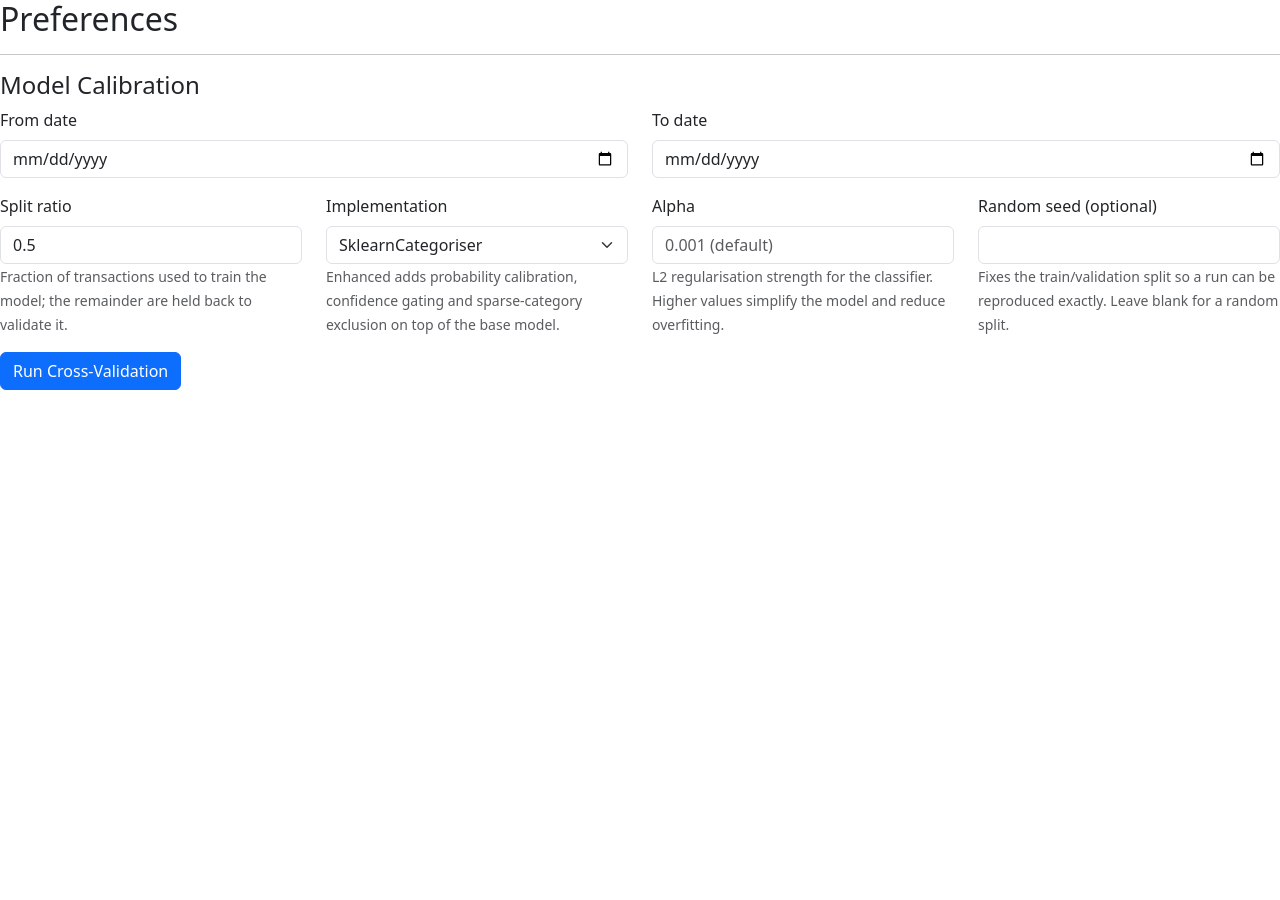
Test case: Preferences › should open save modal and save model with set-as-default option
This screenshot has width=1280, height=900.
In the date field labelled "From date": (314, 159) top-left (0, 140), bottom-right (628, 178), type "2025-01-01"
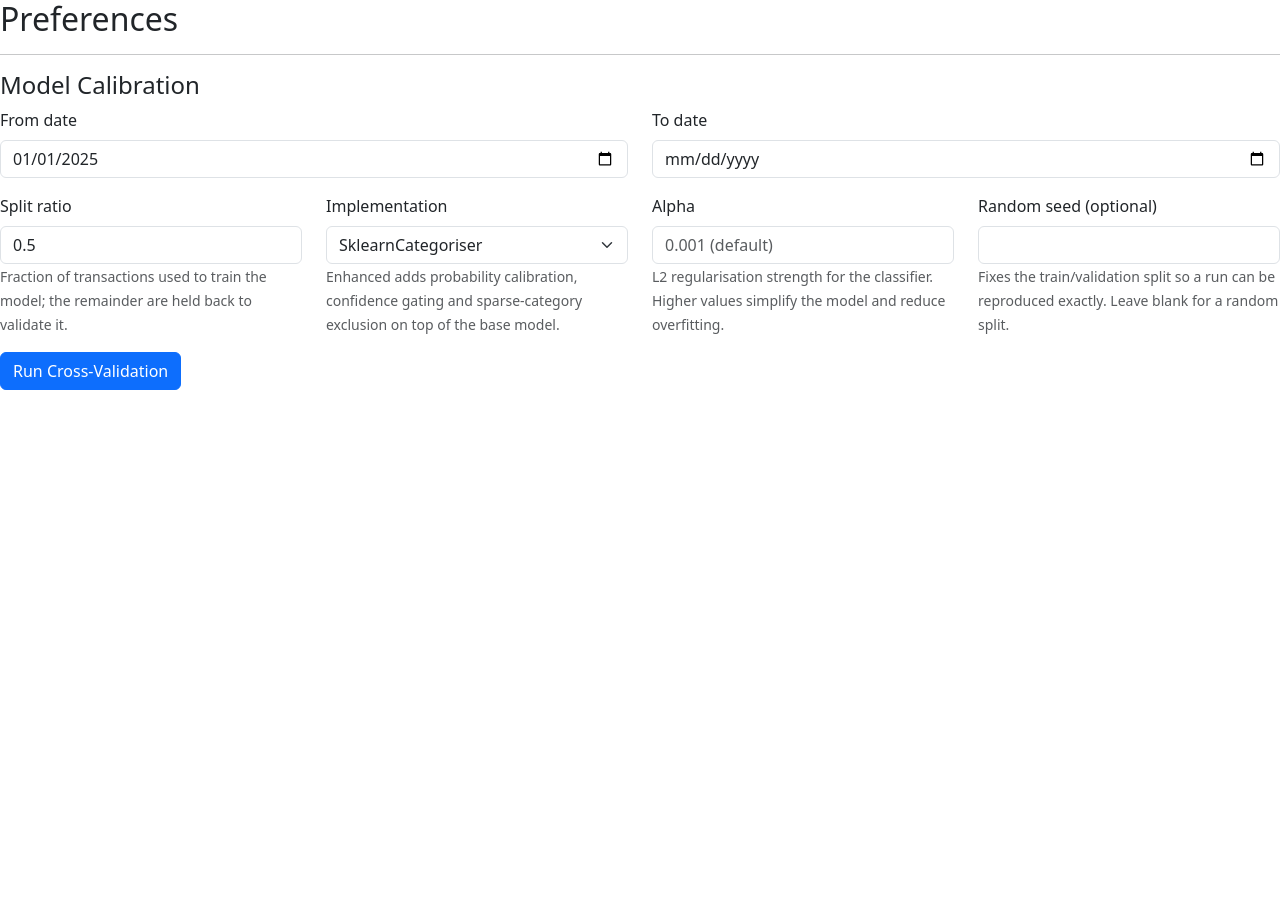
In the date field labelled "To date": (966, 159) top-left (652, 140), bottom-right (1279, 178), type "2025-12-31"
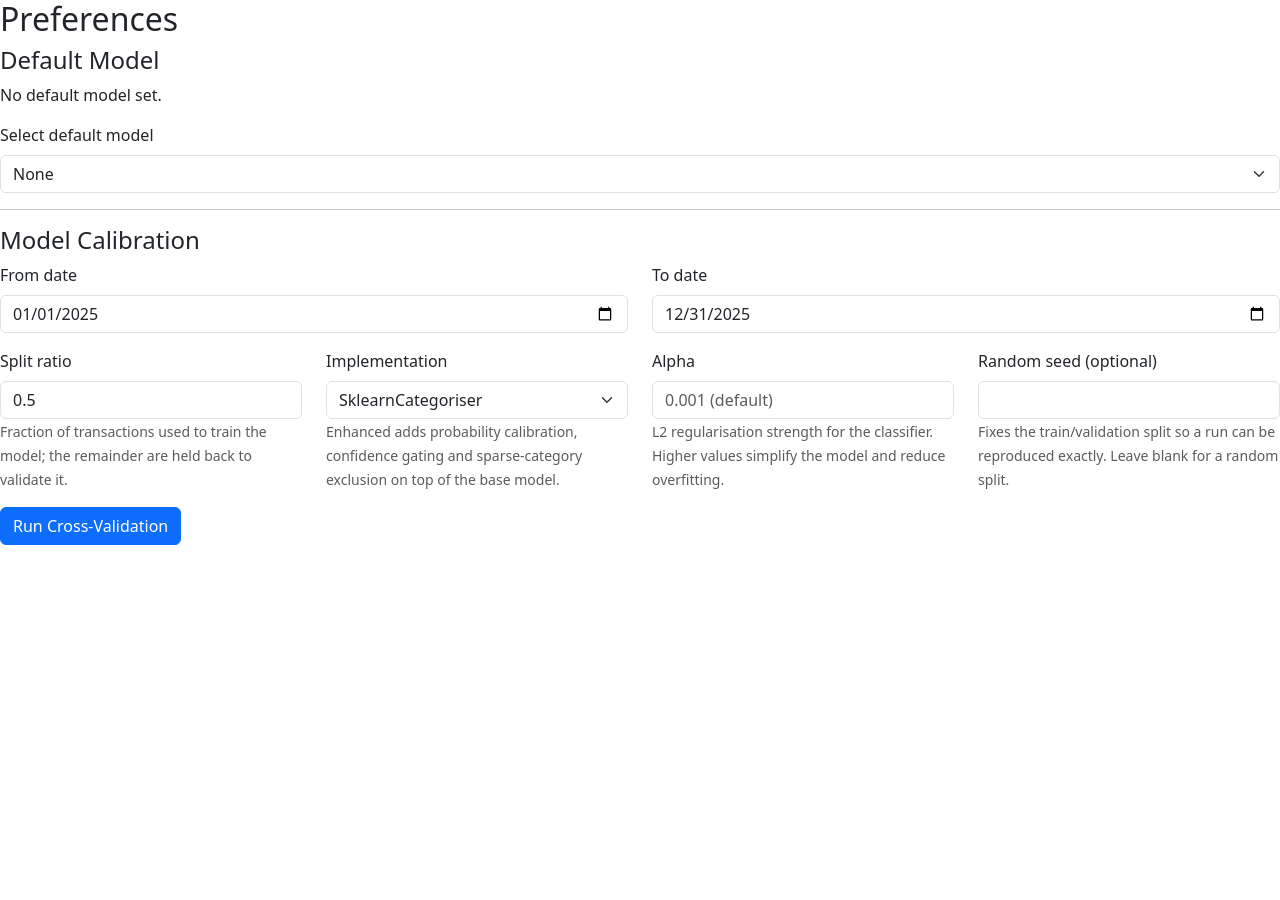
Click the button "Run Cross-Validation": (91, 526) top-left (0, 507), bottom-right (181, 545)
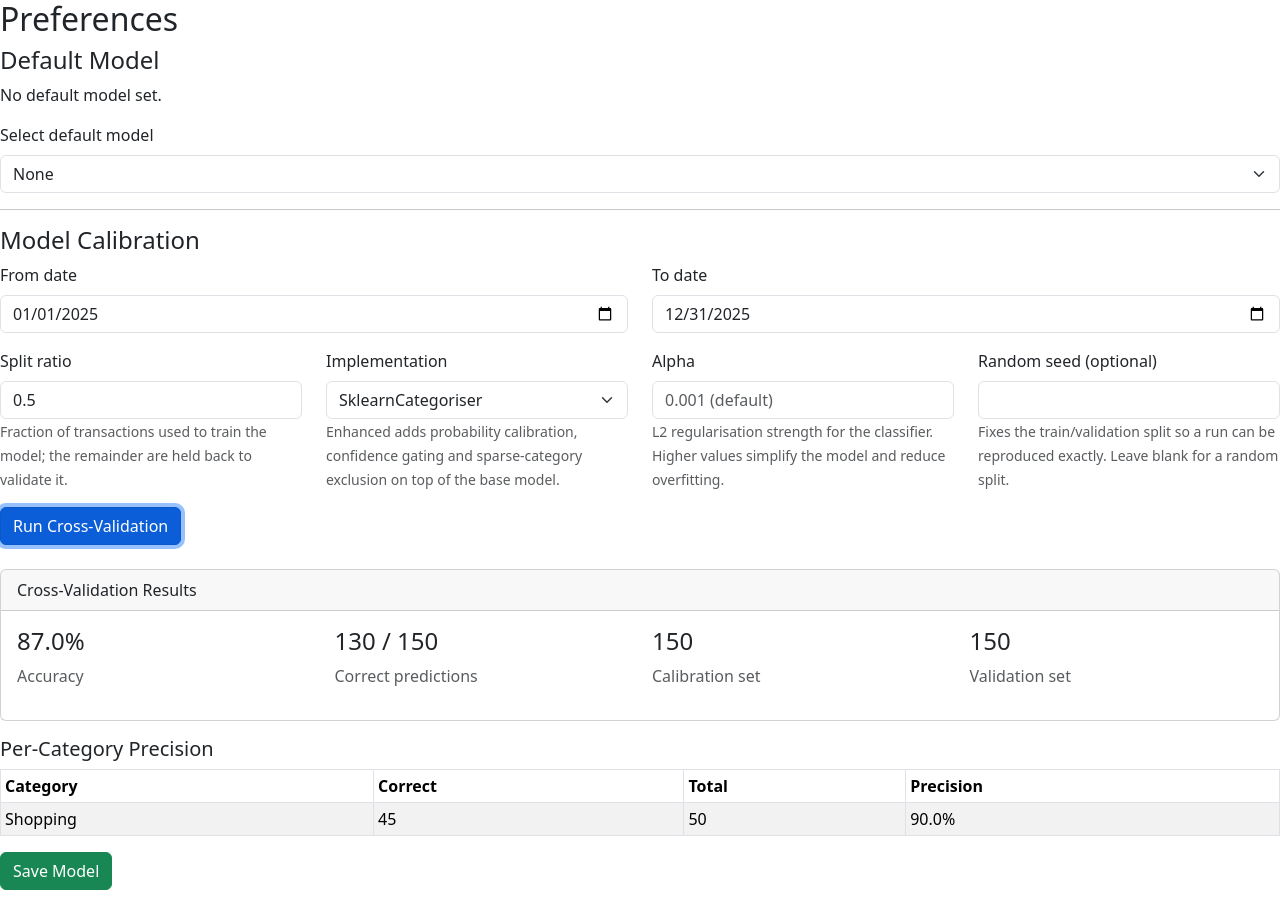
Result: the button "Save Model" is shown
Click the button "Save Model": (56, 871) top-left (0, 852), bottom-right (112, 890)
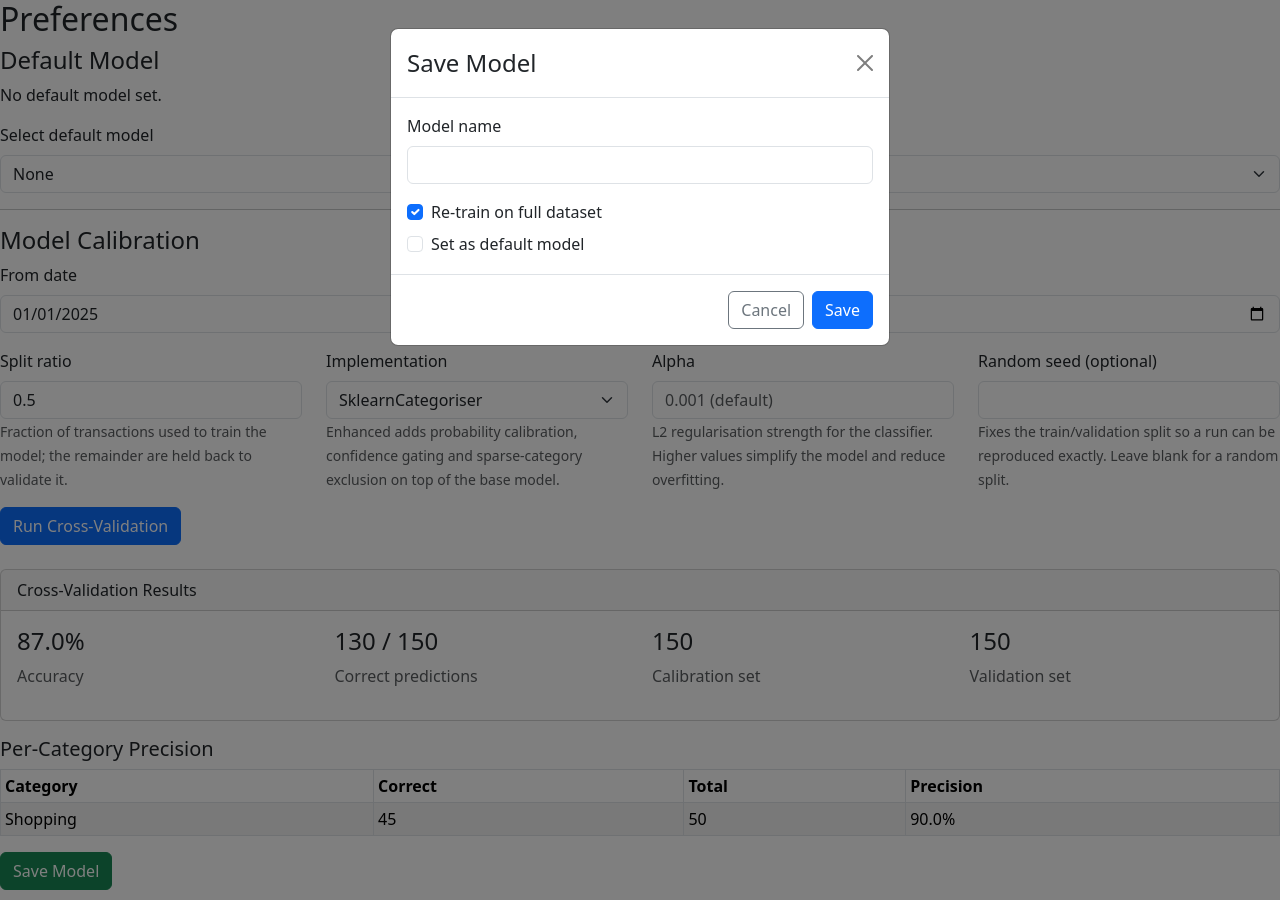
Result: the field labelled "Model name" is shown
In the field labelled "Model name": (640, 165) top-left (407, 146), bottom-right (873, 184), type "my-model"
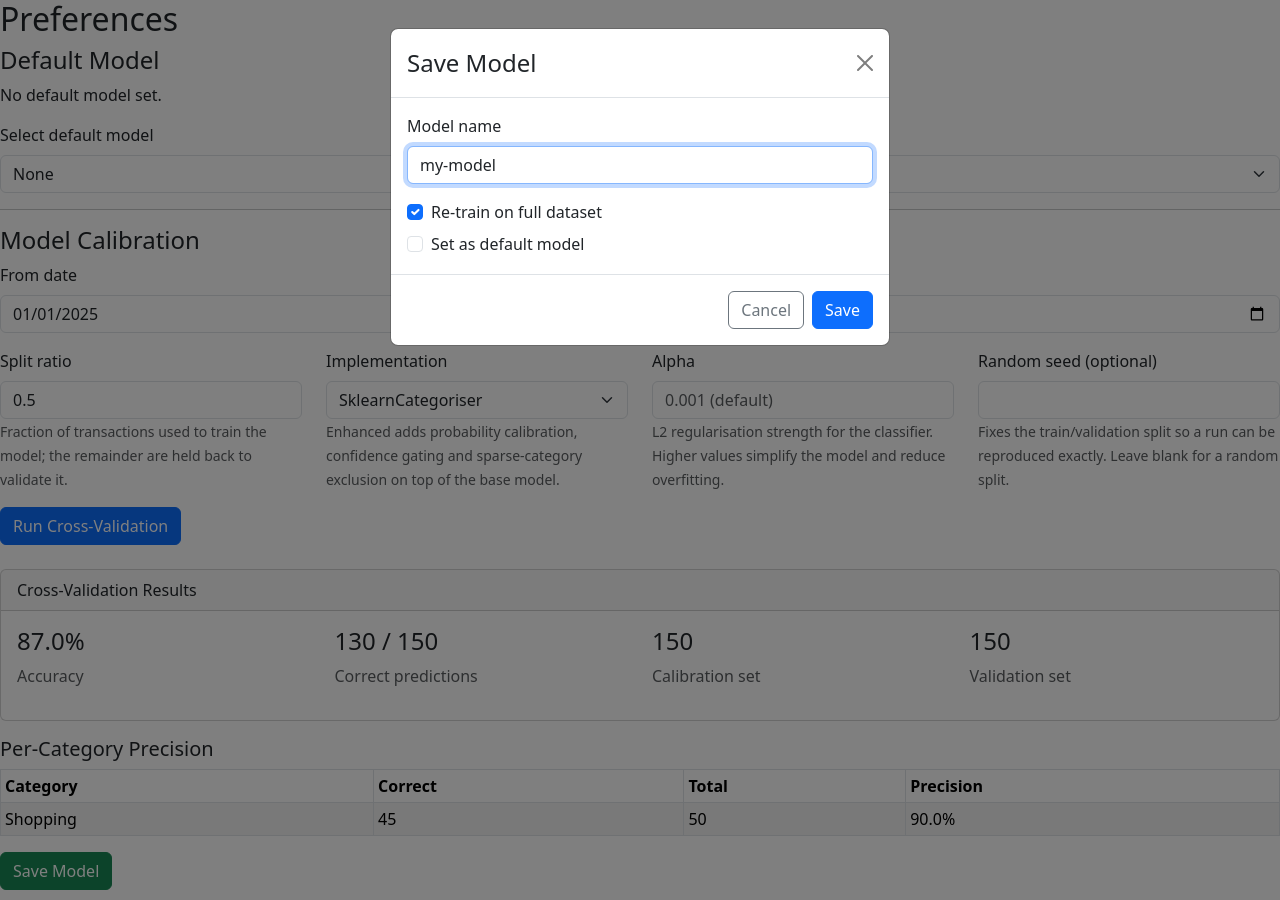
Click the button "Save": (843, 310) top-left (812, 291), bottom-right (873, 329)
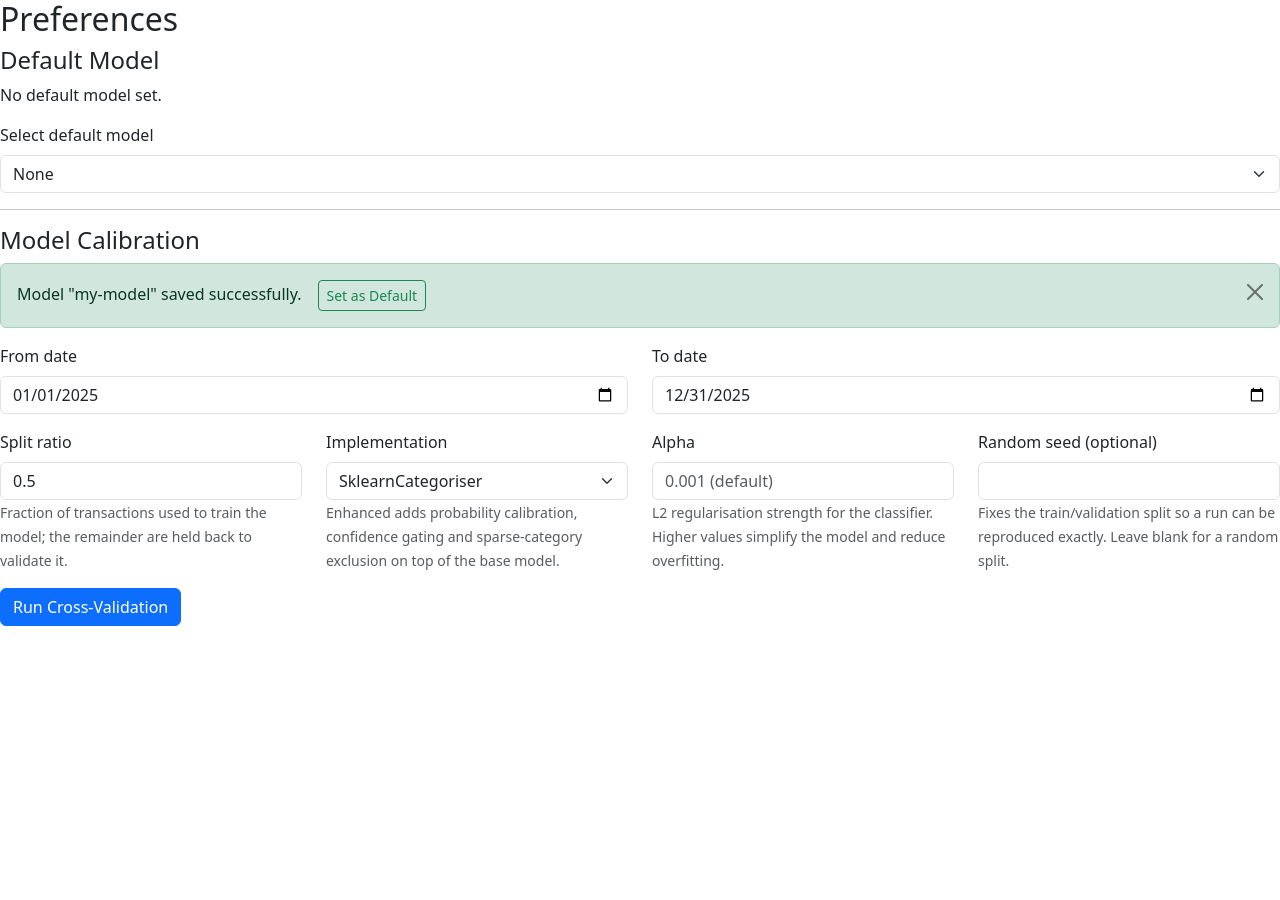
Result: the button "Set as Default" is shown at top-left (318, 280), bottom-right (426, 311)
Result: the text "Model \"my-model\" saved successfully." is shown at top-left (17, 283), bottom-right (302, 305)
